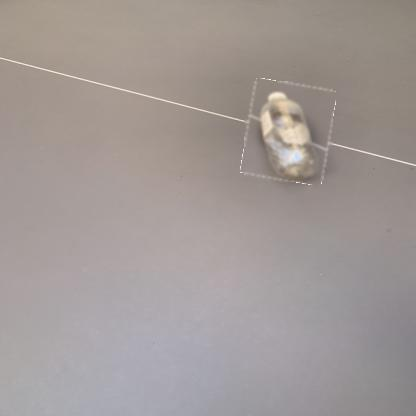plastic-bottles: (245, 82, 335, 184)
